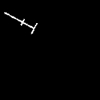double_crochet: (5, 13, 36, 32)
